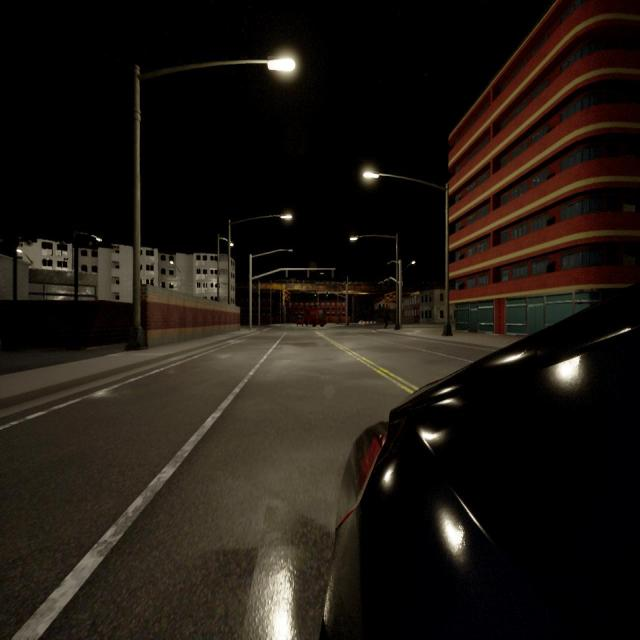Vehicle: (322, 292, 640, 638), (303, 310, 326, 326), (296, 316, 304, 326)
traffic_light: (332, 270, 334, 278), (308, 270, 310, 277), (286, 270, 288, 277), (387, 278, 390, 282), (314, 291, 316, 296), (327, 292, 328, 296), (382, 281, 383, 284)
